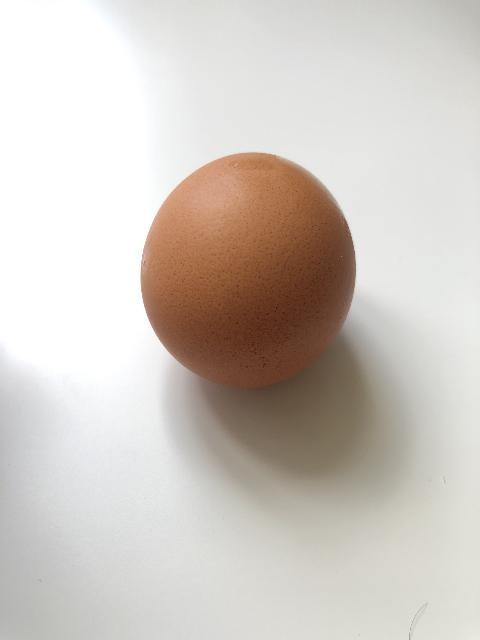Sano: (139, 150, 357, 389)
